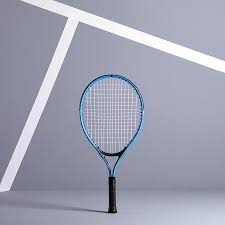tennis racket: (77, 73, 146, 214)
